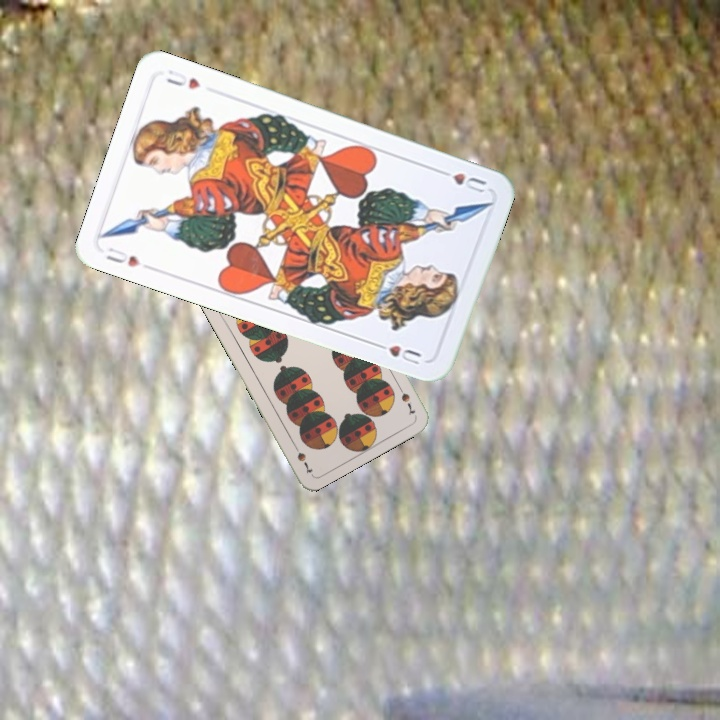HU: (433, 164, 490, 196), (102, 243, 143, 270)
S7: (393, 380, 418, 418)
